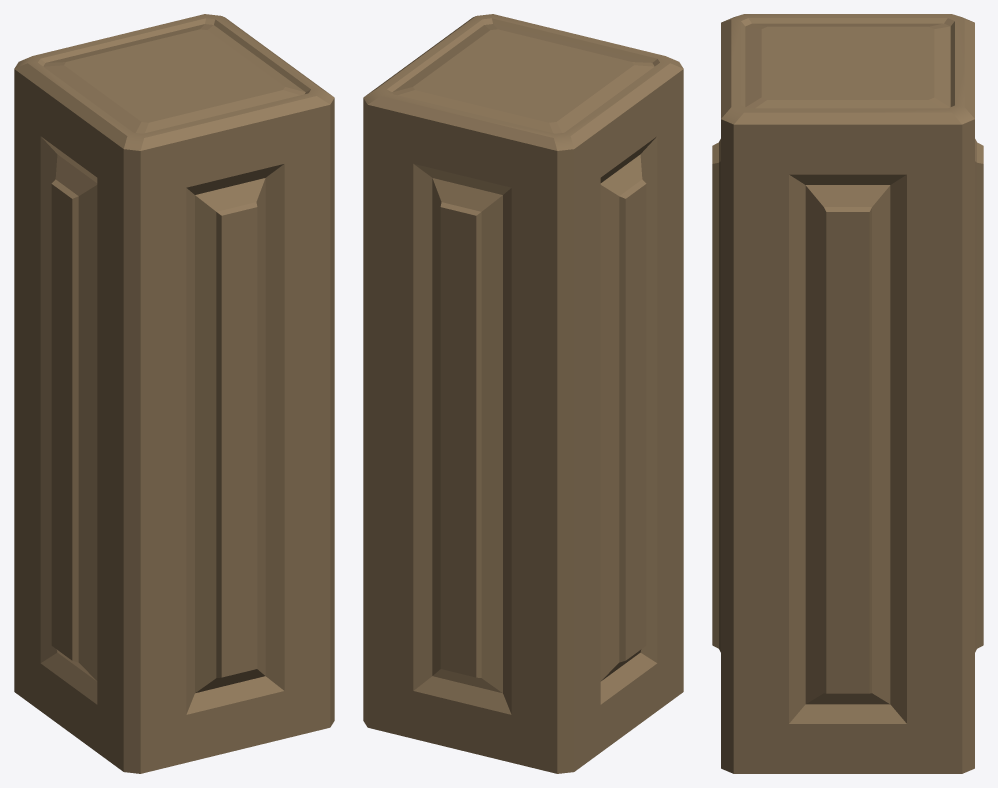
File: wall_corner_01.fbx
3 views of the same model, side by side, from view 1: azimuth 30°, elevation 25°; view 2: azimuth 150°, elevation 25°; view 3: azimuth 270°, elevation 25° (orthographic). The views are drawn at different scales.
Parts seen in each view (by area): view 1: polySurface70; view 2: polySurface70; view 3: polySurface70.
Part boxes in pixels (x1,y1,x2,y2): polySurface70: (14, 14, 334, 773); polySurface70: (363, 14, 683, 773); polySurface70: (712, 14, 983, 773).
Size of the model in its own units: 6.35 by 16.98 by 6.35.
